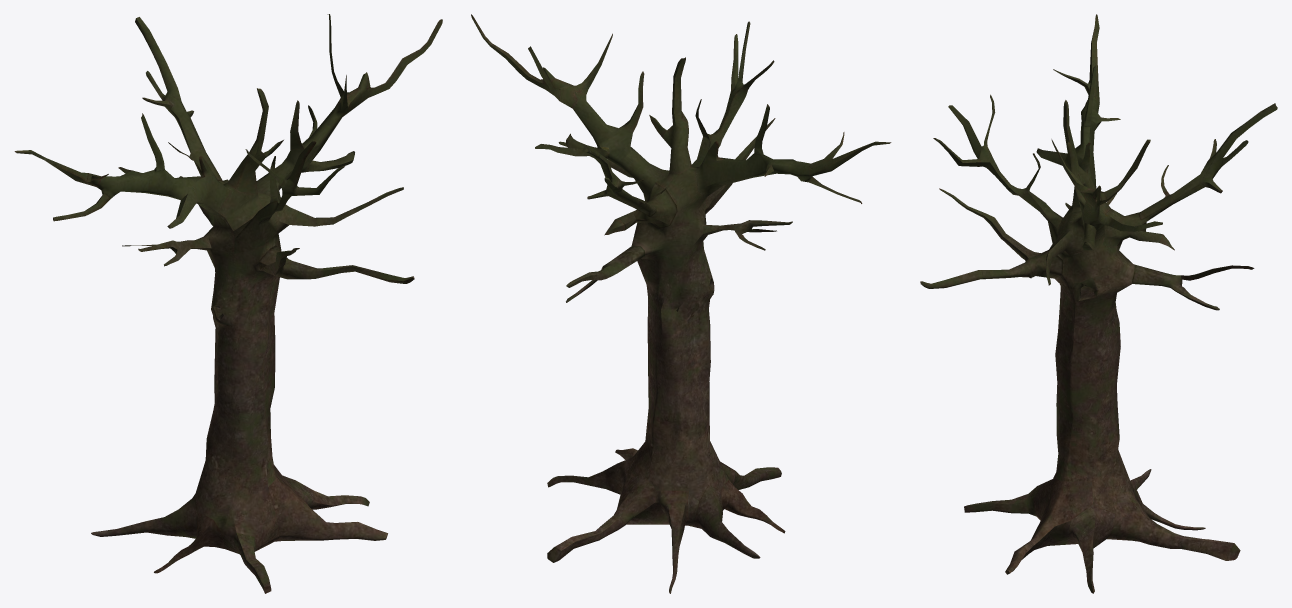
File: pr_deadtree.glb
3 renders of one model, left to right at view 1: azimuth 30°, elevation 25°; view 2: azimuth 150°, elevation 25°; view 3: azimuth 270°, elevation 25°, orthographic. The views are drawn at different scales.
Parts seen in each view (by area): view 1: body|Tree; view 2: body|Tree; view 3: body|Tree.
Part boxes in pixels (bbox=[...]): body|Tree: bbox=[14, 14, 442, 593]; body|Tree: bbox=[471, 14, 891, 593]; body|Tree: bbox=[920, 14, 1277, 593].
Bounding box in the file's own units: 9.11 × 10.04 × 6.93.
1 material, 1 textured.
